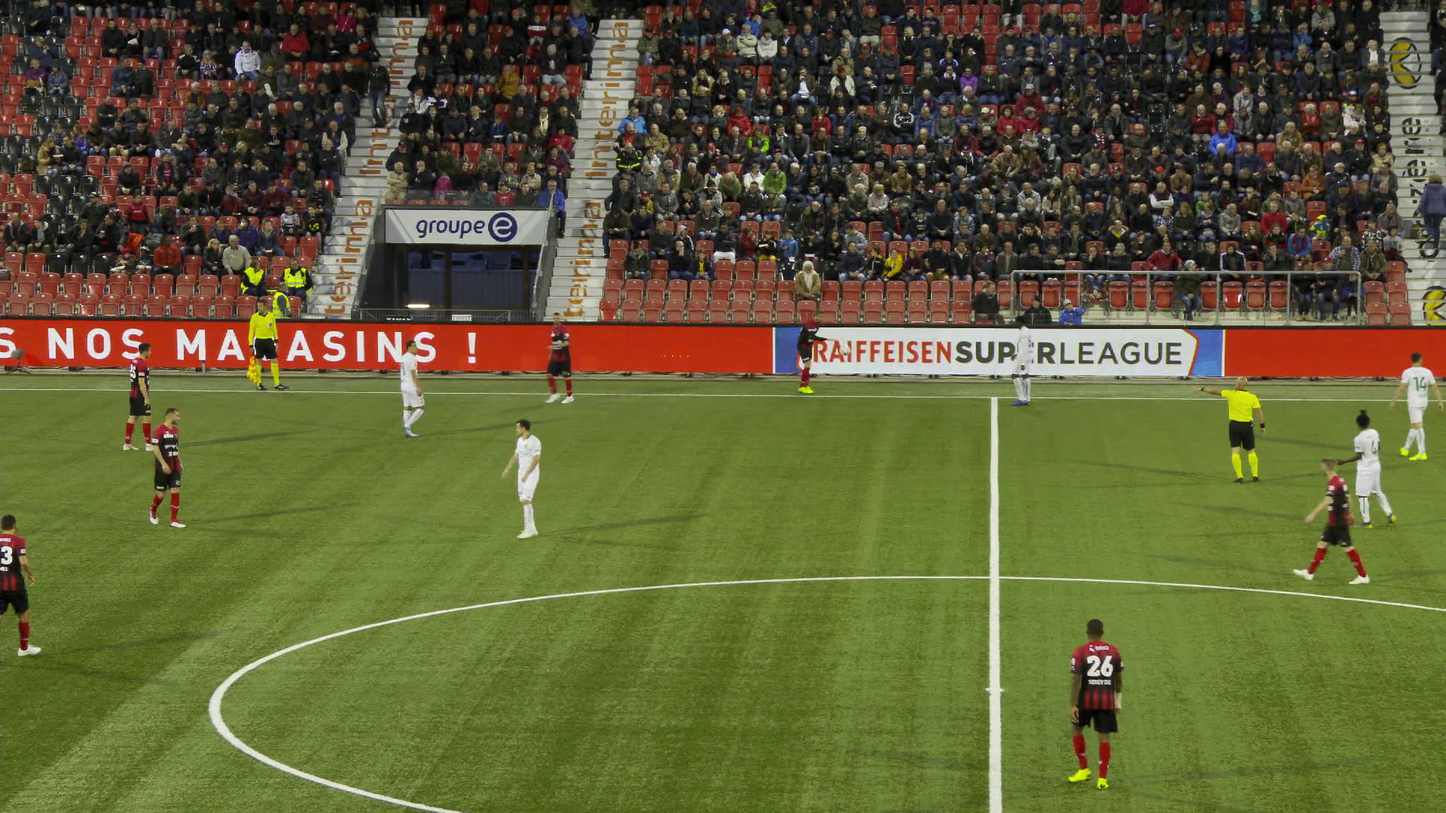ball: (839, 349, 849, 359)
player: (1061, 620, 1127, 789), (1306, 456, 1365, 583), (1339, 410, 1394, 528), (1393, 352, 1443, 460), (0, 514, 37, 658), (503, 419, 542, 537), (149, 408, 187, 527), (538, 313, 576, 403), (792, 310, 833, 393), (122, 343, 151, 451), (1005, 315, 1035, 404), (398, 341, 425, 438)
referee: (1191, 376, 1264, 483), (246, 300, 288, 391)
